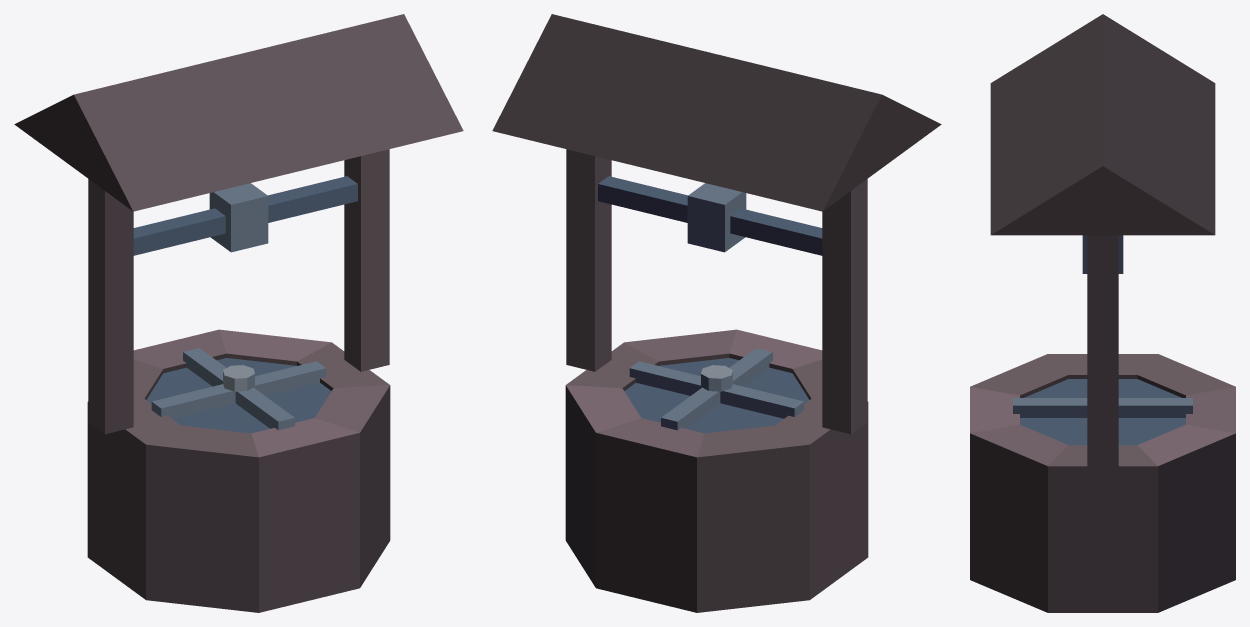
Rendered from brunnen_c_verbraucht.glb.
3 renders of one model, left to right at view 1: azimuth 30°, elevation 25°; view 2: azimuth 150°, elevation 25°; view 3: azimuth 270°, elevation 25°, orthographic. The views are drawn at different scales.
Visible parts, largest first — view 1: brunnen; view 2: brunnen; view 3: brunnen.
Part boxes in pixels (x1=…): brunnen: x1=14, y1=14, x2=463, y2=612; brunnen: x1=492, y1=14, x2=941, y2=612; brunnen: x1=970, y1=14, x2=1235, y2=612.
Bounding box in the file's own units: 1.6 × 2.29 × 1.18.
